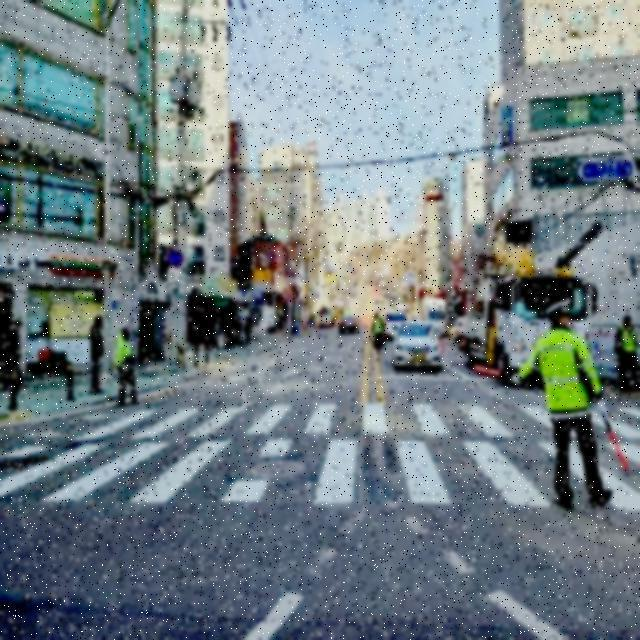Pedestrian crosswalk: (2, 398, 640, 515)
